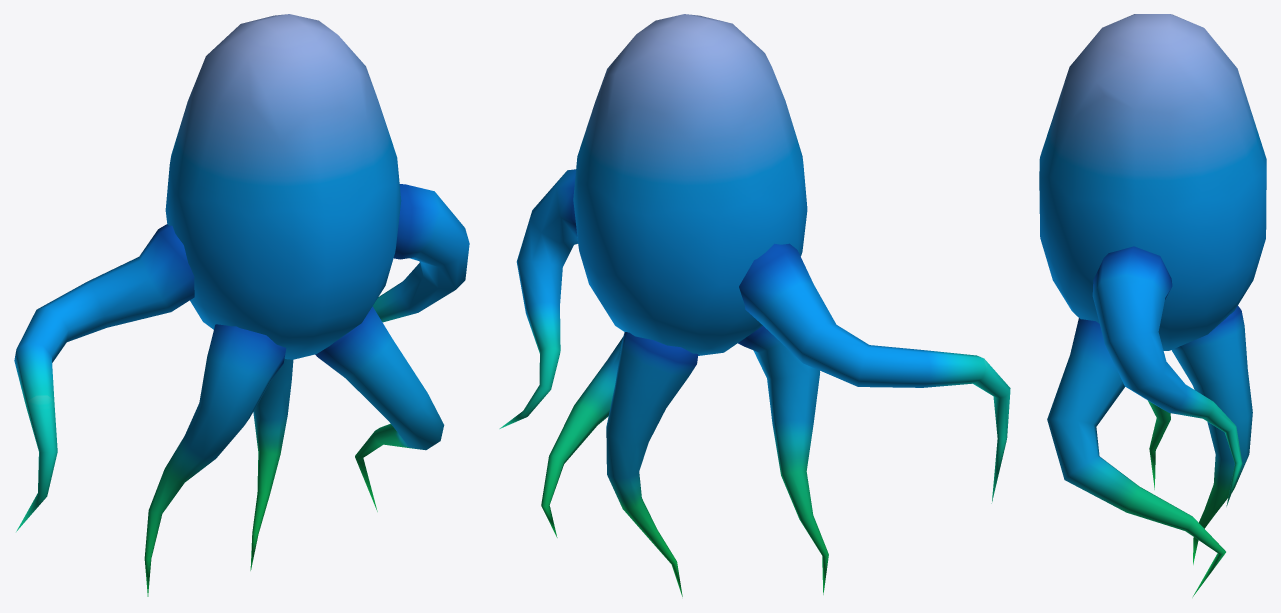
The model's file is Capsule_contents_015.fbx.
3 renders of one model, left to right at view 1: azimuth 30°, elevation 25°; view 2: azimuth 150°, elevation 25°; view 3: azimuth 270°, elevation 25°, orthographic.
Visible parts, largest first — view 1: Сapsule_contents_015; view 2: Сapsule_contents_015; view 3: Сapsule_contents_015.
Part boxes in pixels (left/top/right/bottom): Сapsule_contents_015: left=14, top=14, right=469, bottom=596; Сapsule_contents_015: left=499, top=14, right=1010, bottom=596; Сapsule_contents_015: left=1039, top=14, right=1266, bottom=597.
Size of the model in its own units: 120 by 52.09 by 140.
